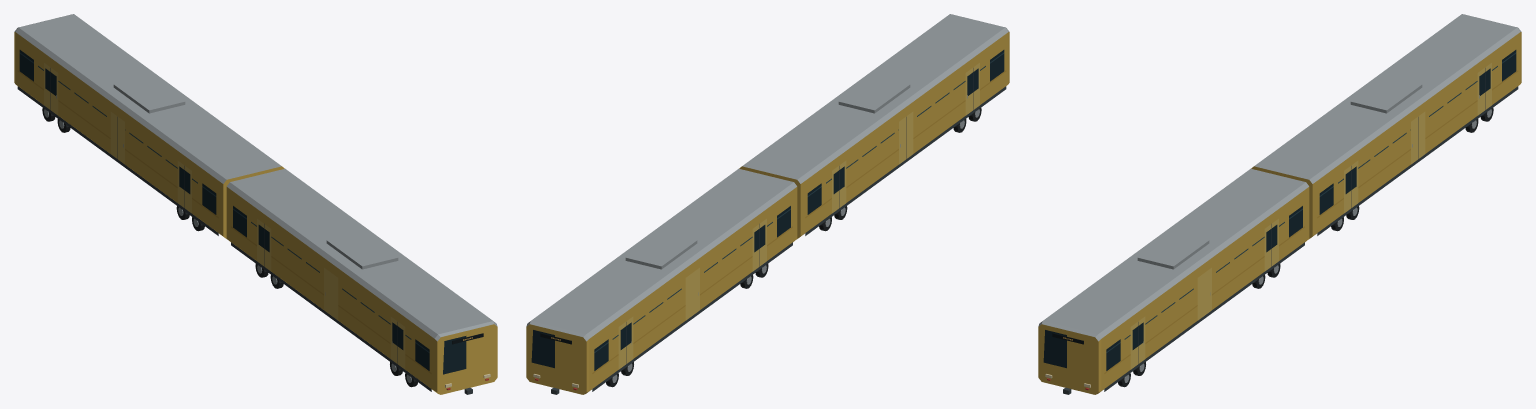
File: sbahn-480.glb
3 renders of one model, left to right at view 1: azimuth 30°, elevation 25°; view 2: azimuth 150°, elevation 25°; view 3: azimuth 330°, elevation 25°, orthographic.
Visible parts, largest first — view 1: sbahn-480.segment-01.005, sbahn-480.segment-02.005; view 2: sbahn-480.segment-02.005, sbahn-480.segment-01.005; view 3: sbahn-480.segment-01.005, sbahn-480.segment-02.005.
Boxes of the visible parts, bbox=[...] form: sbahn-480.segment-01.005: bbox=[226, 168, 497, 394]; sbahn-480.segment-02.005: bbox=[14, 14, 284, 238]; sbahn-480.segment-02.005: bbox=[526, 168, 797, 394]; sbahn-480.segment-01.005: bbox=[739, 14, 1009, 238]; sbahn-480.segment-01.005: bbox=[1038, 168, 1309, 394]; sbahn-480.segment-02.005: bbox=[1251, 14, 1521, 238].
Bounding box in the file's own units: 3.17 × 3.65 × 37.24.
